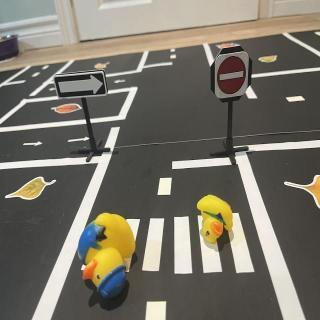duck_regular: (197, 194, 235, 246)
duck_specialty: (80, 213, 139, 309)
road_crosswalk: (127, 216, 257, 278)
road_oneway: (21, 139, 45, 151), (68, 138, 92, 147), (114, 76, 128, 86)
sign_noentry: (215, 54, 250, 99)
sign_oneway_right: (54, 74, 110, 100)
